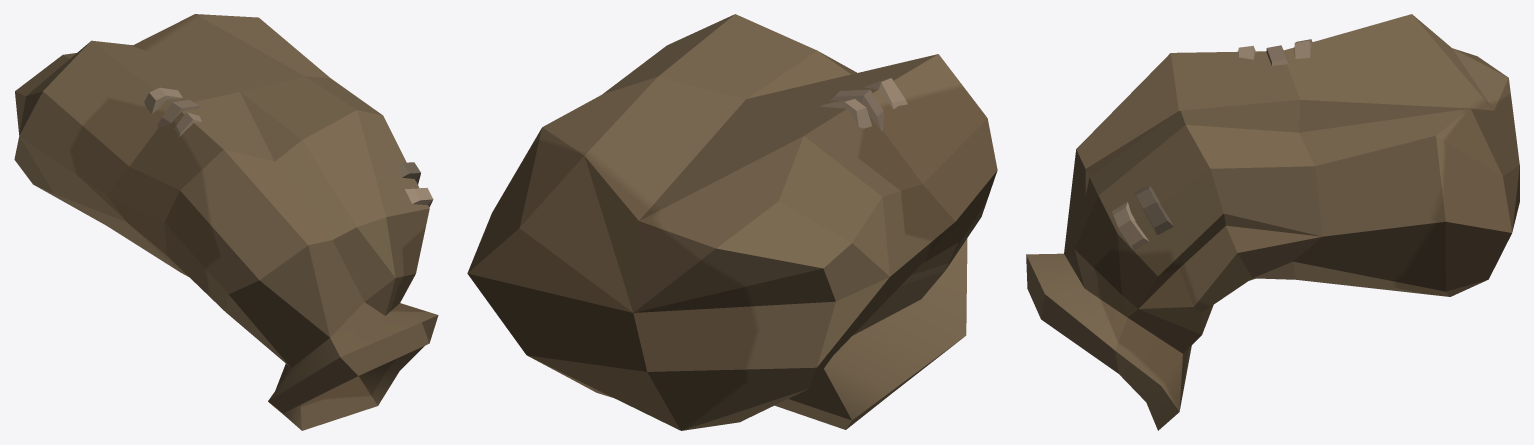
File: SM_Prop_Sack_04.fbx
3 views of the same model, side by side, from view 1: azimuth 30°, elevation 25°; view 2: azimuth 150°, elevation 25°; view 3: azimuth 270°, elevation 25° (orthographic). The views are drawn at different scales.
Visible parts, largest first — view 1: SM_Prop_Sack_04; view 2: SM_Prop_Sack_04; view 3: SM_Prop_Sack_04.
Part boxes in pixels (x1,y1,x2,y2): SM_Prop_Sack_04: (14, 14, 438, 430); SM_Prop_Sack_04: (467, 14, 997, 430); SM_Prop_Sack_04: (1026, 14, 1519, 430).
Size of the model in its own units: 53.79 by 59.9 by 78.93.
